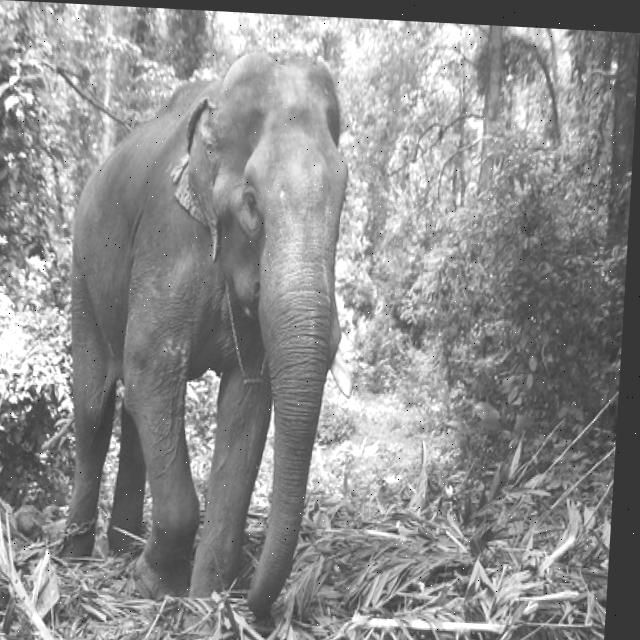Elephant: (47, 40, 372, 633)
